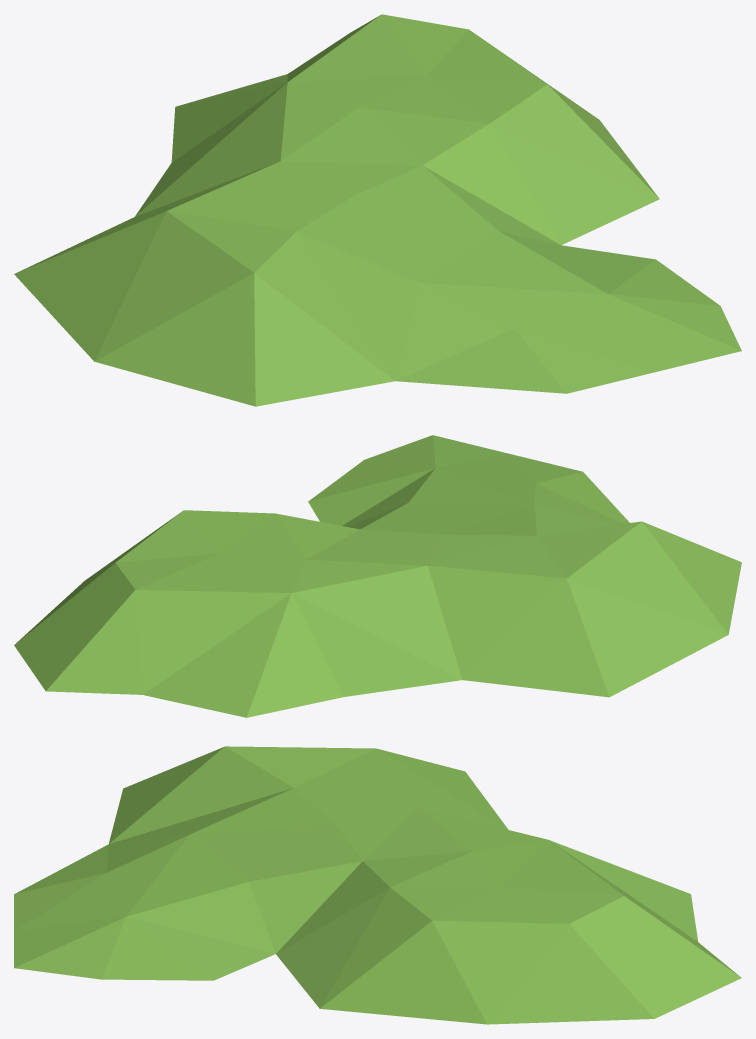
File: MT_Mountain_S_c_07.fbx
3 views of the same model, one above another, from view 1: azimuth 30°, elevation 25°; view 2: azimuth 150°, elevation 25°; view 3: azimuth 270°, elevation 25° (orthographic). The views are drawn at different scales.
Visible parts, largest first — view 1: MT_Mountain_S_c_07; view 2: MT_Mountain_S_c_07; view 3: MT_Mountain_S_c_07.
Boxes of the visible parts, x1,y1,x2,y2 form: MT_Mountain_S_c_07: (14, 14, 741, 406); MT_Mountain_S_c_07: (14, 435, 741, 717); MT_Mountain_S_c_07: (14, 746, 741, 1024).
Bounding box in the file's own units: 1777 × 222 × 2066.
